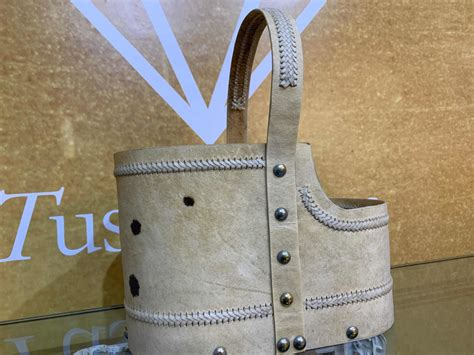cuero: (110, 8, 393, 355)
